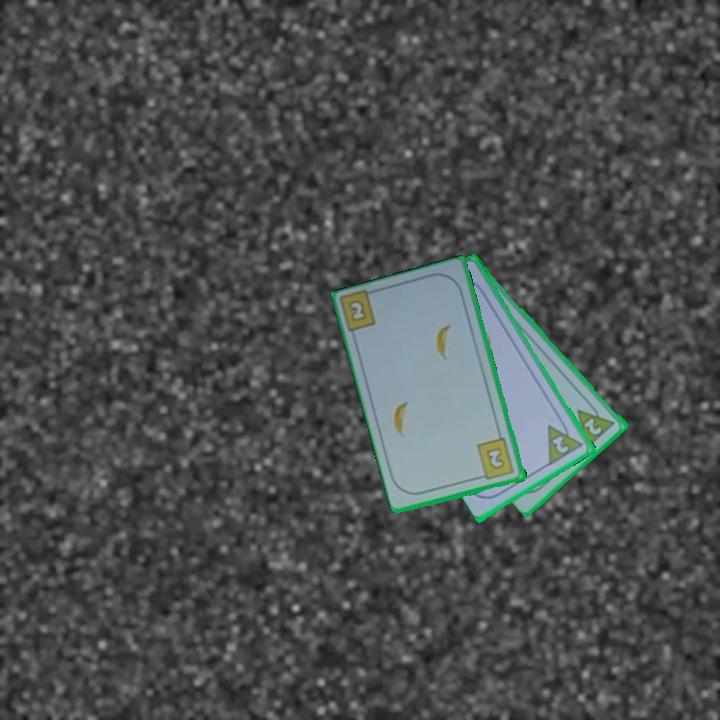2b: (337, 287, 381, 337), (474, 435, 517, 483)
2p: (581, 414, 605, 438), (549, 432, 572, 457)
